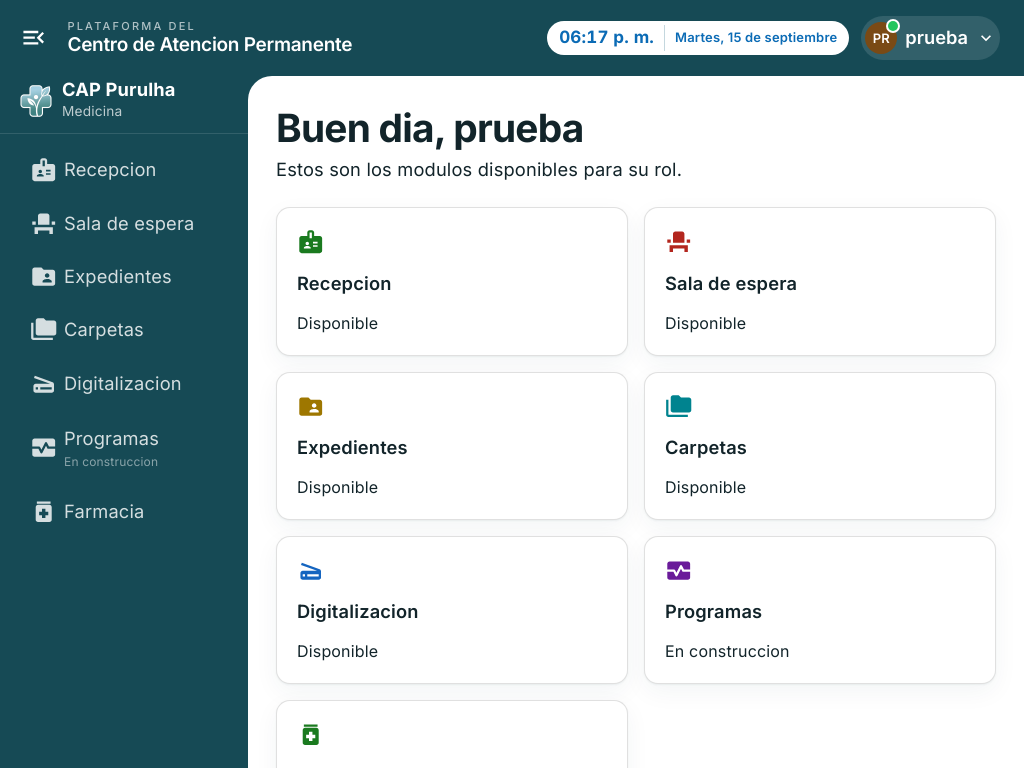
Test: layout con menu por rol › al pulsar una opcion se abre su pantalla
Expected: the navigation bar named "Modulos del sistema" is shown, left=0, top=69, right=248, bottom=767
# Acotado al menu: el inicio tambien pinta una tarjeta con el mismo nombre.
Click the link "Programas En construccion" below "Medicina".
click(95, 448)  # box left=30, top=427, right=159, bottom=469
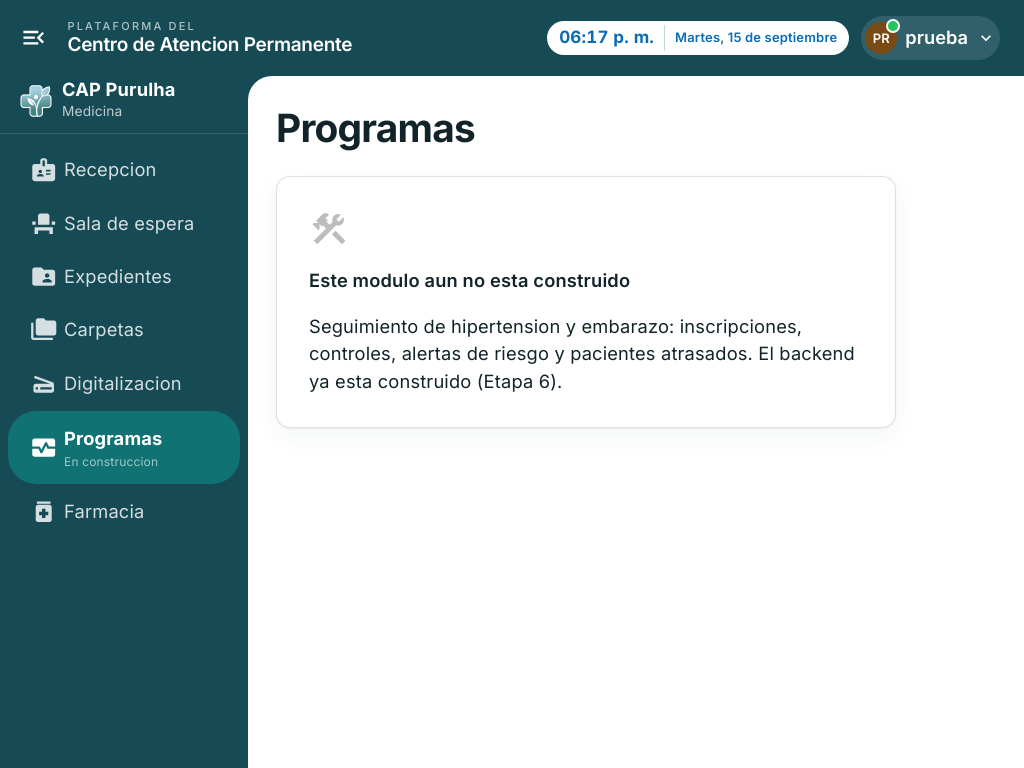
Now the heading "Este modulo aun no esta construido" is shown, box left=309, top=265, right=630, bottom=297
